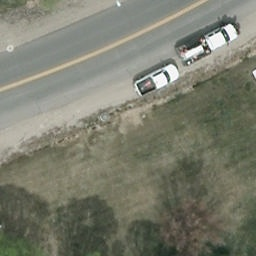car: (133, 66, 188, 98)
pickup: (175, 23, 238, 68)
